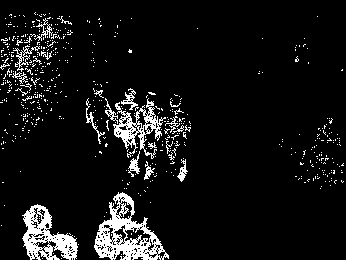person: (92, 191, 171, 260), (21, 203, 78, 260), (162, 94, 191, 184), (114, 87, 142, 178), (137, 90, 164, 181), (85, 82, 113, 158)
